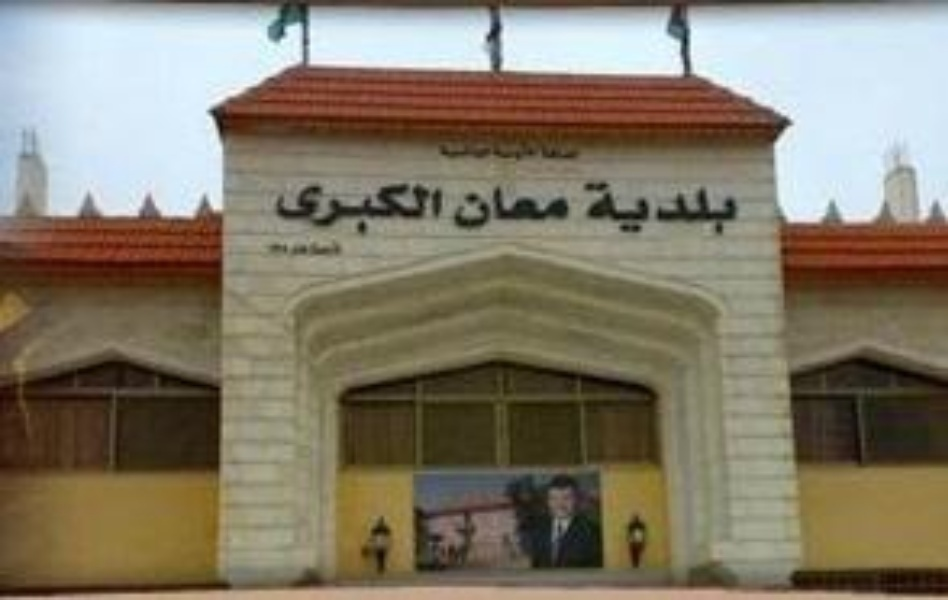text: (593, 178, 608, 236), (609, 178, 624, 236), (625, 178, 640, 236), (641, 178, 656, 236), (657, 178, 672, 236), (673, 178, 688, 236), (689, 178, 704, 236), (705, 178, 720, 236), (721, 178, 736, 236), (289, 181, 304, 236), (305, 181, 320, 236), (321, 181, 336, 236), (337, 181, 352, 236), (353, 181, 368, 236), (369, 181, 384, 236), (385, 181, 400, 236), (401, 181, 416, 236), (417, 181, 432, 236), (449, 184, 464, 230), (465, 184, 480, 230), (481, 184, 496, 230), (497, 184, 512, 230), (513, 184, 528, 230), (529, 184, 544, 230), (545, 184, 560, 230), (433, 181, 445, 236), (581, 178, 592, 236), (278, 181, 288, 236), (561, 184, 571, 230), (449, 136, 464, 162), (465, 136, 480, 162), (481, 136, 496, 162), (497, 136, 512, 162), (513, 136, 528, 162), (529, 136, 544, 162), (545, 136, 560, 162), (561, 136, 576, 162), (436, 136, 448, 162), (273, 239, 288, 259), (289, 239, 304, 259), (305, 239, 320, 259), (321, 239, 336, 259), (337, 239, 349, 259), (262, 239, 272, 259), (737, 178, 739, 236), (577, 136, 581, 162)
